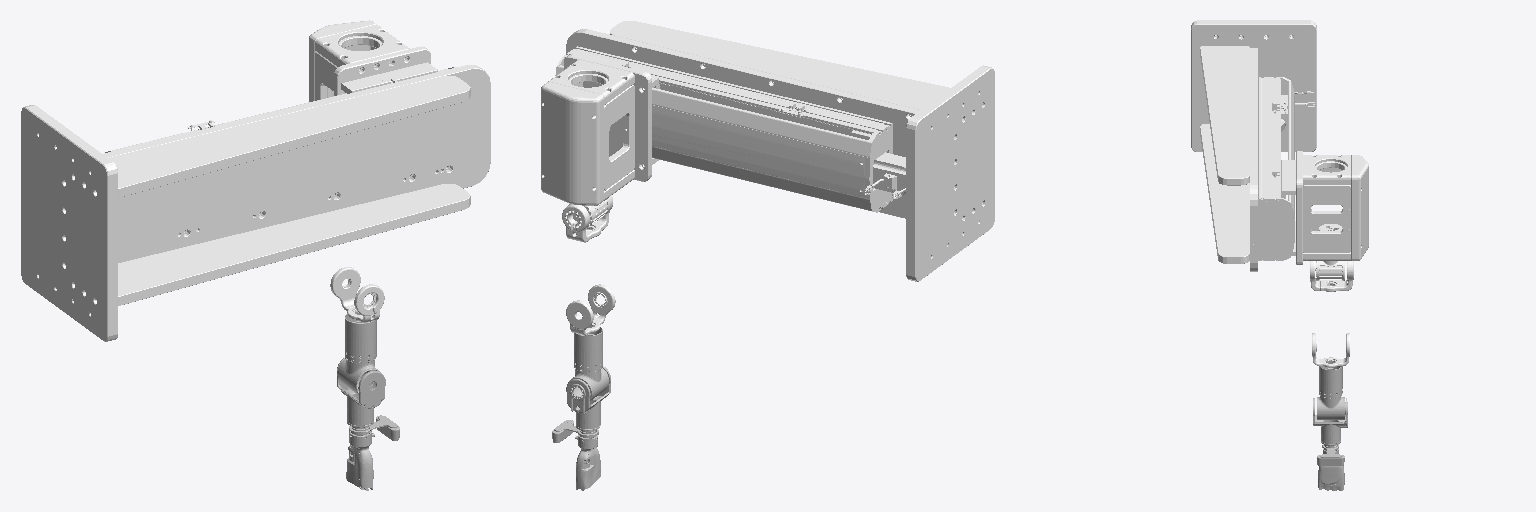
robot.urdf — R_JEARM:
<?xml version="1.0" encoding="utf-8"?>
<!-- This URDF was automatically created by SolidWorks to URDF Exporter! Originally created by [author] ([email redacted]) 
     Commit Version: 1.6.0-4-g7f85cfe  Build Version: 1.6.7995.38578
     For more information, please see http://wiki.ros.org/sw_urdf_exporter -->
<robot
  name="R_JEARM">
  <link
    name="base_link">
    <inertial>
      <origin
        xyz="-0.40373 -0.2184 0.21205"
        rpy="0 0 0" />
      <mass
        value="34.216" />
      <inertia
        ixx="0.54165"
        ixy="-0.029534"
        ixz="-0.0001037"
        iyy="3.8398"
        iyz="-6.957E-05"
        izz="3.6685" />
    </inertial>
    <visual>
      <origin
        xyz="0 0 0"
        rpy="0 0 0" />
      <geometry>
        <mesh
          filename="base_link.STL" />
      </geometry>
      <material
        name="">
        <color
          rgba="1 1 1 1" />
      </material>
    </visual>
    <collision>
      <origin
        xyz="0 0 0"
        rpy="0 0 0" />
      <geometry>
        <mesh
          filename="base_link.STL" />
      </geometry>
    </collision>
  </link>
  <link
    name="Link1">
    <inertial>
      <origin
        xyz="-2.7836E-05 0.0032223 0.0061763"
        rpy="0 0 0" />
      <mass
        value="0.15903" />
      <inertia
        ixx="0.00024741"
        ixy="-1.7103E-07"
        ixz="-5.1201E-08"
        iyy="0.00018207"
        iyz="-2.5958E-06"
        izz="0.00021676" />
    </inertial>
    <visual>
      <origin
        xyz="0 0 0"
        rpy="0 0 0" />
      <geometry>
        <mesh
          filename="Link1.STL" />
      </geometry>
      <material
        name="">
        <color
          rgba="1 1 1 1" />
      </material>
    </visual>
    <collision>
      <origin
        xyz="0 0 0"
        rpy="0 0 0" />
      <geometry>
        <mesh
          filename="Link1.STL" />
      </geometry>
    </collision>
  </link>
  <joint
    name="joint1"
    type="revolute">
    <origin
      xyz="0 0 0"
      rpy="0 0 0" />
    <parent
      link="base_link" />
    <child
      link="Link1" />
    <axis
      xyz="0 0 1" />
    <limit
      lower="-5.14"
      upper="5.14"
      effort="100"
      velocity="3.14" />
  </joint>
  <link
    name="Link2">
    <inertial>
      <origin
        xyz="-1.6327E-07 -0.025603 -0.0022931"
        rpy="0 0 0" />
      <mass
        value="0.24379" />
      <inertia
        ixx="0.00094174"
        ixy="-7.9265E-10"
        ixz="2.0047E-09"
        iyy="0.00077932"
        iyz="-7.4771E-06"
        izz="0.00032368" />
    </inertial>
    <visual>
      <origin
        xyz="0 0 0"
        rpy="0 0 0" />
      <geometry>
        <mesh
          filename="Link2.STL" />
      </geometry>
      <material
        name="">
        <color
          rgba="1 1 1 1" />
      </material>
    </visual>
    <collision>
      <origin
        xyz="0 0 0"
        rpy="0 0 0" />
      <geometry>
        <mesh
          filename="Link2.STL" />
      </geometry>
    </collision>
  </link>
  <joint
    name="joint2"
    type="revolute">
    <origin
      xyz="0 0 0"
      rpy="1.5708 0 0" />
    <parent
      link="Link1" />
    <child
      link="Link2" />
    <axis
      xyz="0 0 1" />
    <limit
      lower="-1.86"
      upper="1.82"
      effort="100"
      velocity="3.14" />
  </joint>
  <link
    name="Link3">
    <inertial>
      <origin
        xyz="-0.0013392 -0.00027359 0.078005"
        rpy="0 0 0" />
      <mass
        value="0.24955" />
      <inertia
        ixx="0.00049972"
        ixy="1.565E-07"
        ixz="-2.0036E-05"
        iyy="0.00052699"
        iyz="-5.9993E-07"
        izz="0.00028114" />
    </inertial>
    <visual>
      <origin
        xyz="0 0 0"
        rpy="0 0 0" />
      <geometry>
        <mesh
          filename="Link3.STL" />
      </geometry>
      <material
        name="">
        <color
          rgba="0.81961 0.81961 0.81961 1" />
      </material>
    </visual>
    <collision>
      <origin
        xyz="0 0 0"
        rpy="0 0 0" />
      <geometry>
        <mesh
          filename="Link3.STL" />
      </geometry>
    </collision>
  </link>
  <joint
    name="joint3"
    type="revolute">
    <origin
      xyz="0 -0.2719 0"
      rpy="-1.5708 0 0" />
    <parent
      link="Link2" />
    <child
      link="Link3" />
    <axis
      xyz="0 0 1" />
    <limit
      lower="-2.96"
      upper="2.96"
      effort="100"
      velocity="3.14" />
  </joint>
  <link
    name="Link4">
    <inertial>
      <origin
        xyz="0.0025298 -0.015986 -0.0037526"
        rpy="0 0 0" />
      <mass
        value="0.14036" />
      <inertia
        ixx="0.0004781"
        ixy="1.265E-05"
        ixz="-1.167E-06"
        iyy="0.00040537"
        iyz="8.4401E-06"
        izz="0.00017537" />
    </inertial>
    <visual>
      <origin
        xyz="0 0 0"
        rpy="0 0 0" />
      <geometry>
        <mesh
          filename="Link4.STL" />
      </geometry>
      <material
        name="">
        <color
          rgba="1 1 1 1" />
      </material>
    </visual>
    <collision>
      <origin
        xyz="0 0 0"
        rpy="0 0 0" />
      <geometry>
        <mesh
          filename="Link4.STL" />
      </geometry>
    </collision>
  </link>
  <joint
    name="joint4"
    type="revolute">
    <origin
      xyz="-0.008 0 0"
      rpy="1.5708 0 0" />
    <parent
      link="Link3" />
    <child
      link="Link4" />
    <axis
      xyz="0 0 1" />
    <limit
      lower="-2.27"
      upper="1.8"
      effort="100"
      velocity="3.14" />
  </joint>
  <link
    name="Link5">
    <inertial>
      <origin
        xyz="1.2792E-07 0.0016321 0.052024"
        rpy="0 0 0" />
      <mass
        value="0.20346" />
      <inertia
        ixx="0.00028328"
        ixy="9.1339E-10"
        ixz="-1.3106E-09"
        iyy="0.00029079"
        iyz="8.3228E-06"
        izz="0.00023151" />
    </inertial>
    <visual>
      <origin
        xyz="0 0 0"
        rpy="0 0 0" />
      <geometry>
        <mesh
          filename="Link5.STL" />
      </geometry>
      <material
        name="">
        <color
          rgba="0.81961 0.81961 0.81961 1" />
      </material>
    </visual>
    <collision>
      <origin
        xyz="0 0 0"
        rpy="0 0 0" />
      <geometry>
        <mesh
          filename="Link5.STL" />
      </geometry>
    </collision>
  </link>
  <joint
    name="joint5"
    type="revolute">
    <origin
      xyz="0.008 -0.2189 0"
      rpy="-1.5708 0 0" />
    <parent
      link="Link4" />
    <child
      link="Link5" />
    <axis
      xyz="0 0 1" />
    <limit
      lower="-2.96"
      upper="2.96"
      effort="100"
      velocity="3.14" />
  </joint>
  <link
    name="Link6">
    <inertial>
      <origin
        xyz="-4.9639E-08 -0.048851 0.0014891"
        rpy="0 0 0" />
      <mass
        value="0.13951" />
      <inertia
        ixx="0.00023544"
        ixy="8.0518E-10"
        ixz="-6.4098E-10"
        iyy="0.00016545"
        iyz="5.5234E-05"
        izz="0.00018838" />
    </inertial>
    <visual>
      <origin
        xyz="0 0 0"
        rpy="0 0 0" />
      <geometry>
        <mesh
          filename="Link6.STL" />
      </geometry>
      <material
        name="">
        <color
          rgba="0.81961 0.81961 0.81961 1" />
      </material>
    </visual>
    <collision>
      <origin
        xyz="0 0 0"
        rpy="0 0 0" />
      <geometry>
        <mesh
          filename="Link6.STL" />
      </geometry>
    </collision>
  </link>
  <joint
    name="joint6"
    type="revolute">
    <origin
      xyz="0 0 0"
      rpy="1.5708 0 0" />
    <parent
      link="Link5" />
    <child
      link="Link6" />
    <axis
      xyz="0 0 1" />
    <limit
      lower="-1.6"
      upper="1.55"
      effort="100"
      velocity="3.14" />
  </joint>
  <link
    name="Link7">
    <inertial>
      <origin
        xyz="0.012652 0.00064615 -0.067442"
        rpy="0 0 0" />
      <mass
        value="0.36915" />
      <inertia
        ixx="0.00044759"
        ixy="3.5408E-08"
        ixz="-5.838E-06"
        iyy="0.00033738"
        iyz="7.6361E-06"
        izz="0.00018678" />
    </inertial>
    <visual>
      <origin
        xyz="0 0 0"
        rpy="0 0 0" />
      <geometry>
        <mesh
          filename="Link7.STL" />
      </geometry>
      <material
        name="">
        <color
          rgba="0.81961 0.81961 0.81961 1" />
      </material>
    </visual>
    <collision>
      <origin
        xyz="0 0 0"
        rpy="0 0 0" />
      <geometry>
        <mesh
          filename="Link7.STL" />
      </geometry>
    </collision>
  </link>
  <joint
    name="joint7"
    type="revolute">
    <origin
      xyz="0 -0.124 0"
      rpy="-1.5708 0 0" />
    <parent
      link="Link6" />
    <child
      link="Link7" />
    <axis
      xyz="0 0 1" />
    <limit
      lower="-2.96"
      upper="2.96"
      effort="100"
      velocity="3.14" />
  </joint>
</robot>

--- Facts derived from the render (not from the file) ---
The picture shows the robot from 3 angles, left to right: view 1: azimuth 30°, elevation 25°; view 2: azimuth 150°, elevation 25°; view 3: azimuth 270°, elevation 25°; orthographic projection.
Model R_JEARM with 8 links and 7 joints (7 revolute), rooted at base_link, posed every joint at zero.
Links seen in each view (by area): view 1: base_link, Link5, Link7, Link4, Link6; view 2: base_link, Link5, Link7, Link4, Link6, Link2; view 3: base_link, Link5, Link7, Link6, Link2, Link1.
Boxes of the visible links, left/top/right/bottom form: base_link: left=21, top=20, right=490, bottom=341; Link5: left=337, top=312, right=380, bottom=394; Link7: left=346, top=415, right=399, bottom=490; Link4: left=330, top=267, right=384, bottom=322; Link6: left=337, top=358, right=385, bottom=427; base_link: left=541, top=21, right=994, bottom=281; Link5: left=570, top=325, right=608, bottom=400; Link7: left=552, top=420, right=600, bottom=490; Link4: left=566, top=284, right=615, bottom=335; Link6: left=566, top=366, right=610, bottom=430; Link2: left=562, top=195, right=612, bottom=242; base_link: left=1191, top=20, right=1368, bottom=271; Link5: left=1317, top=361, right=1344, bottom=419; Link7: left=1317, top=444, right=1344, bottom=490; Link6: left=1313, top=398, right=1347, bottom=445; Link2: left=1310, top=261, right=1353, bottom=291; Link1: left=1315, top=261, right=1344, bottom=280.
Bounding box of the posed robot: 1.13 × 0.5656 × 1.21 m (x, y, z).
Meshes: 8 distinct files referenced, 7 mesh visuals loaded (7 binary STL); not drawn: 1 (reference not matched to a file when rendering).